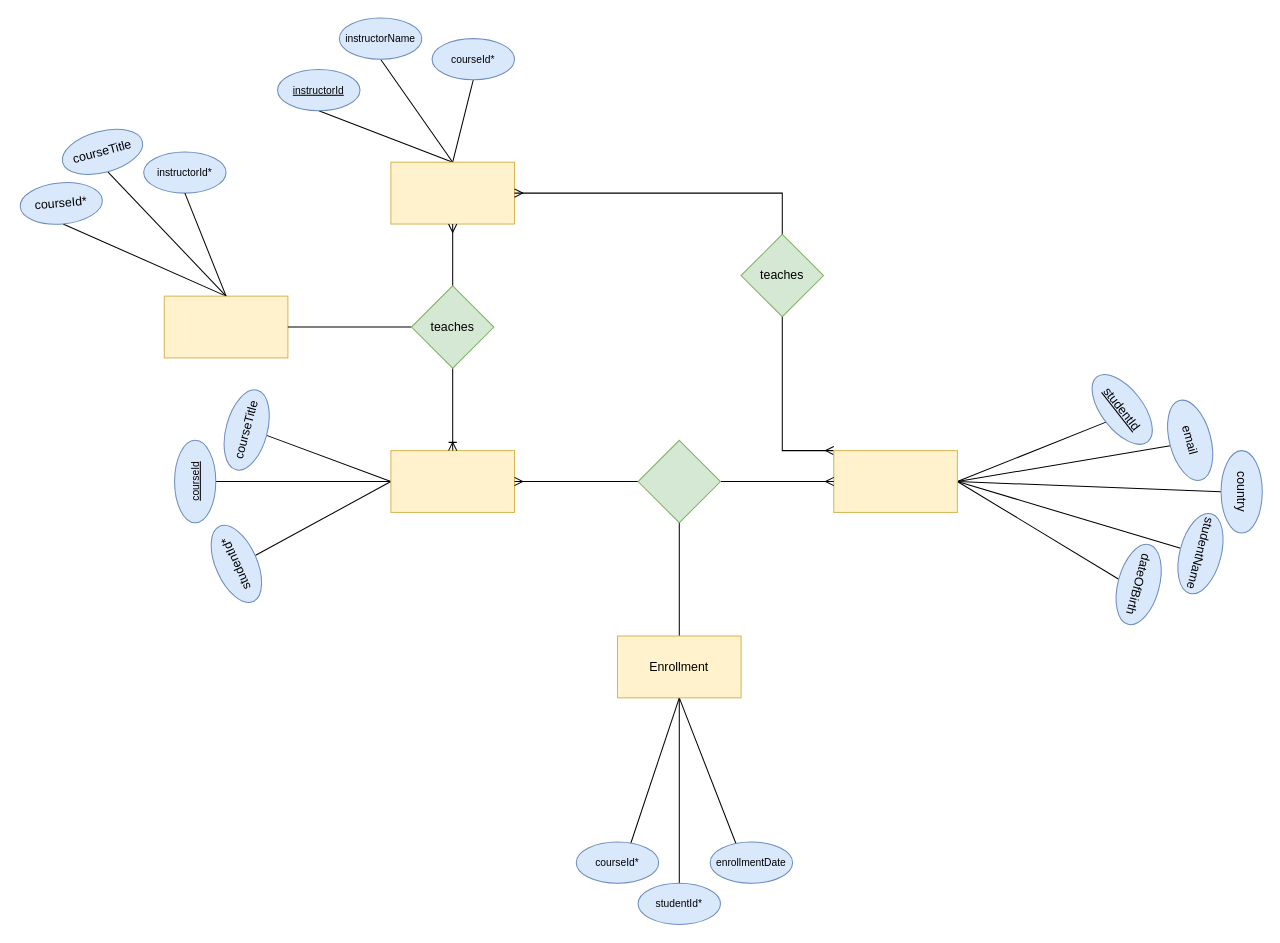
The diagram is 1280 pixels wide and 943 high, and some of its shapes have lost their labels. The shapes that lost their labels are listed below. From the top down, each one's centre as x and y in pixels, then its label:
At point (452, 192): "Instructor".
At point (225, 326): "CourseInstructor".
At point (452, 481): "Course".
At point (678, 481): "enrolls".
At point (895, 481): "Student".
